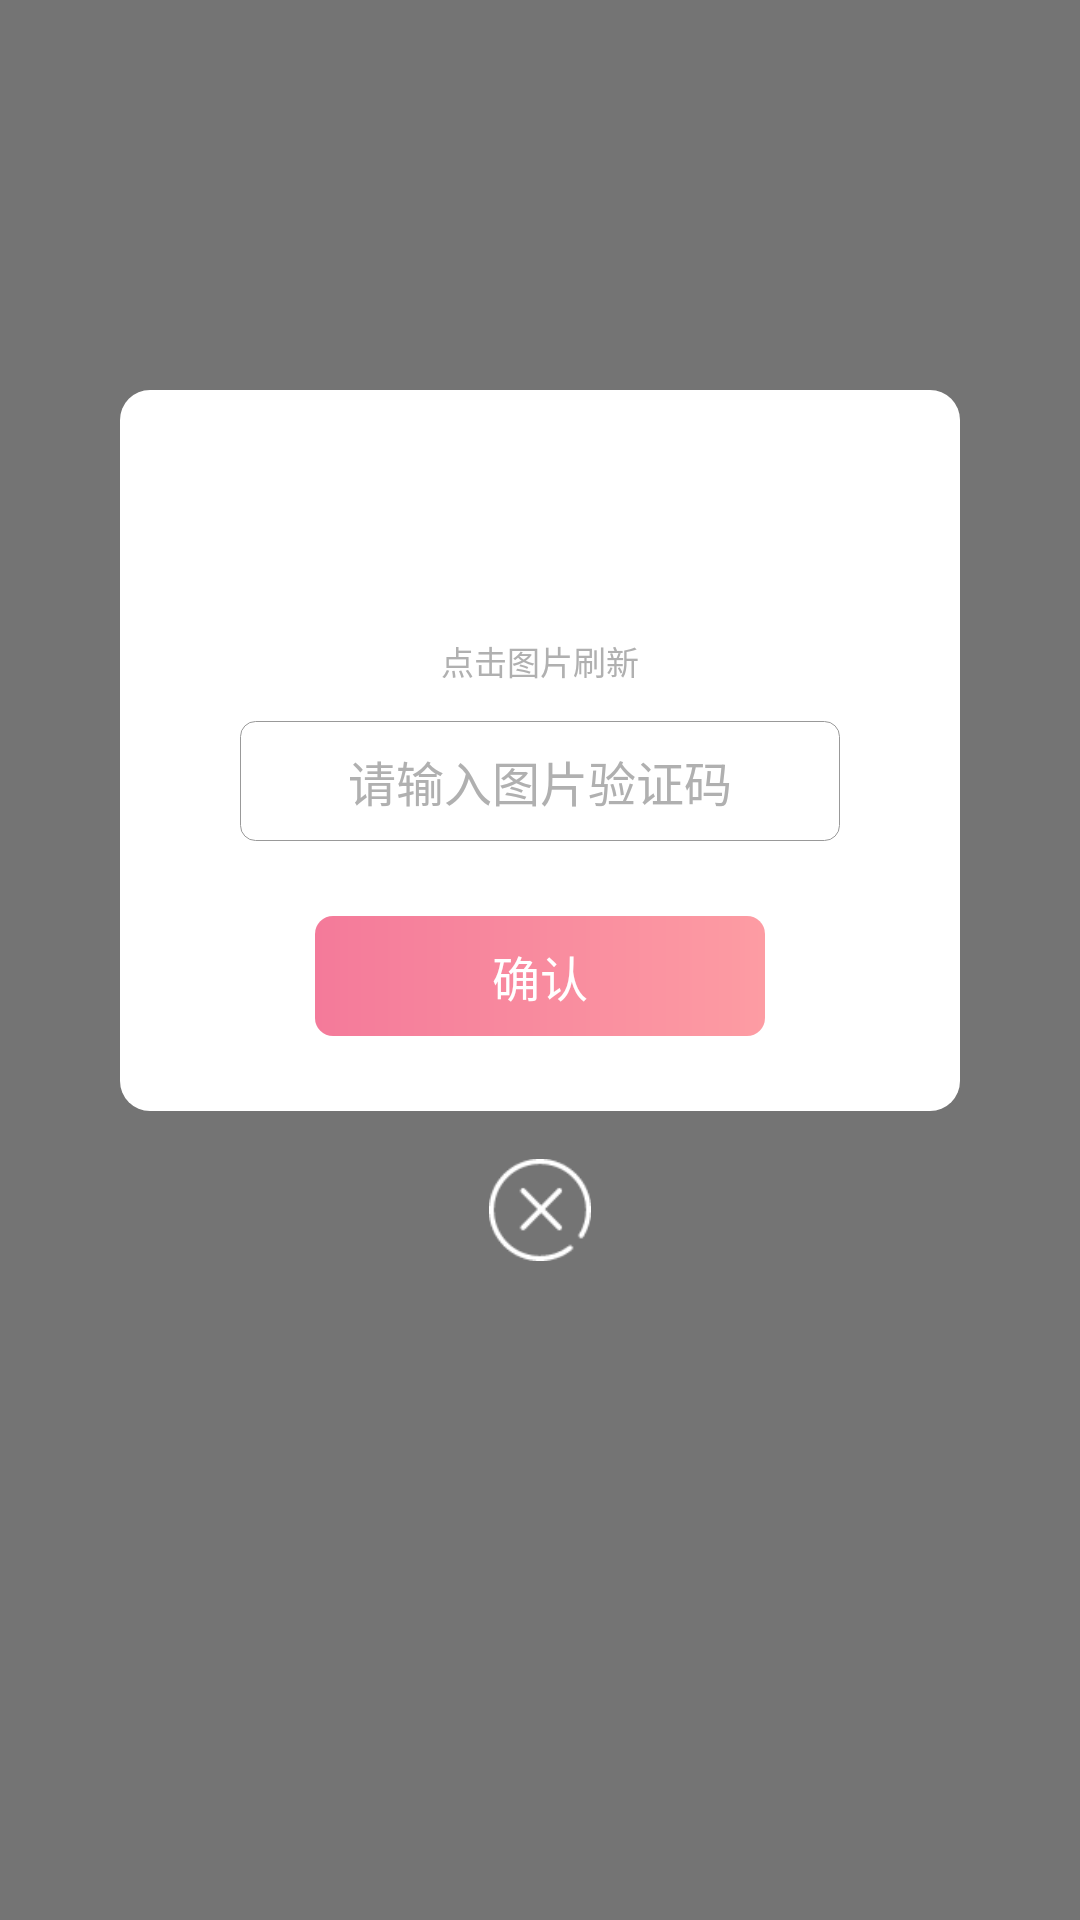

Named icons in this screenshot (1080 x 1920) and their bounding boxes, (x1, y1, x2, y2):
close circle: (489, 1159, 591, 1261)
